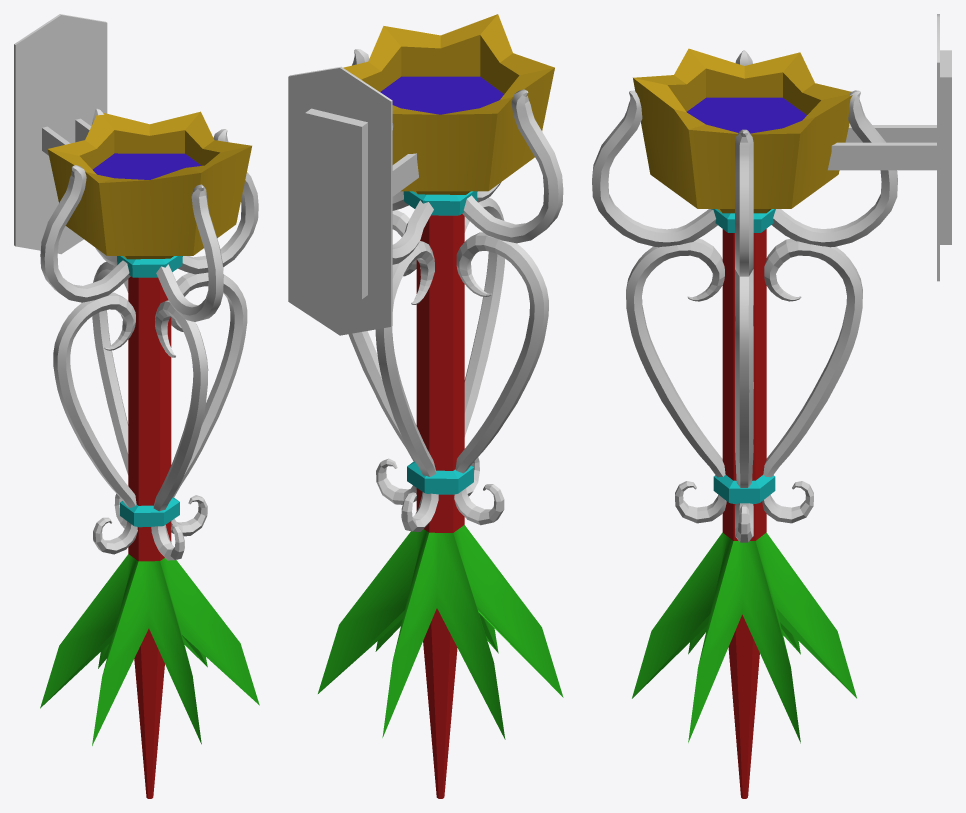
The model's file is Torch_Final.fbx.
3 views of the same model, side by side, from view 1: azimuth 30°, elevation 25°; view 2: azimuth 150°, elevation 25°; view 3: azimuth 270°, elevation 25° (orthographic). The views are drawn at different scales.
Parts seen in each view (by area): view 1: Torch_Body_Low, Torch_Deco_Low, Torch_Mount_Low; view 2: Torch_Body_Low, Torch_Mount_Low, Torch_Deco_Low; view 3: Torch_Body_Low, Torch_Deco_Low, Torch_Mount_Low.
Part boxes in pixels (x1,y1,x2,y2): Torch_Body_Low: (40,111,259,798); Torch_Deco_Low: (40,108,258,560); Torch_Mount_Low: (14,14,107,254); Torch_Body_Low: (318,14,563,798); Torch_Mount_Low: (288,66,418,335); Torch_Deco_Low: (348,49,563,531); Torch_Body_Low: (632,48,856,798); Torch_Deco_Low: (592,50,897,542); Torch_Mount_Low: (828,14,951,281).
Size of the model in its own units: 1.25 by 4 by 1.67.
